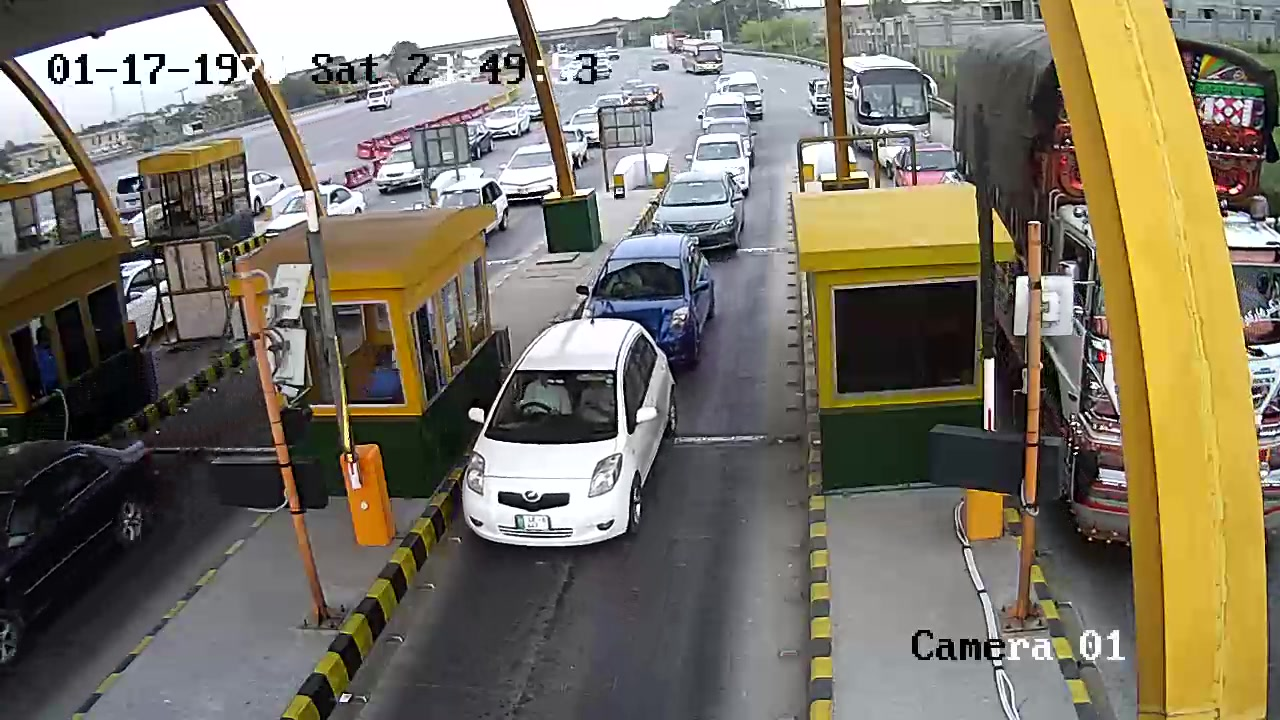F1: (455, 309, 683, 554)
